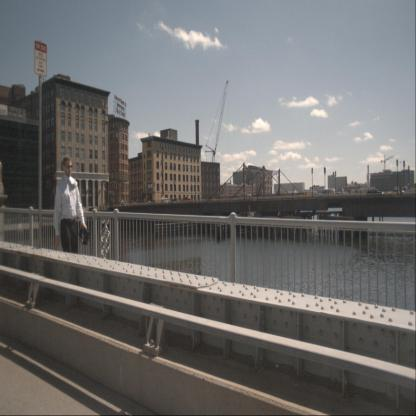human-pedestrian-adult: (53, 156, 90, 299)
vehicle-car: (366, 188, 384, 197), (387, 188, 405, 197), (320, 188, 336, 197), (181, 196, 192, 203), (170, 198, 180, 204)
vehicle-truck: (239, 192, 252, 200)
